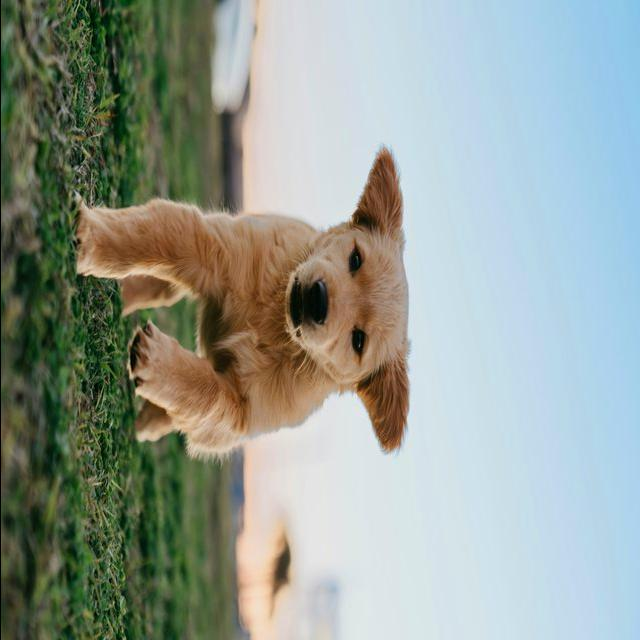retriever: (71, 144, 412, 462)
